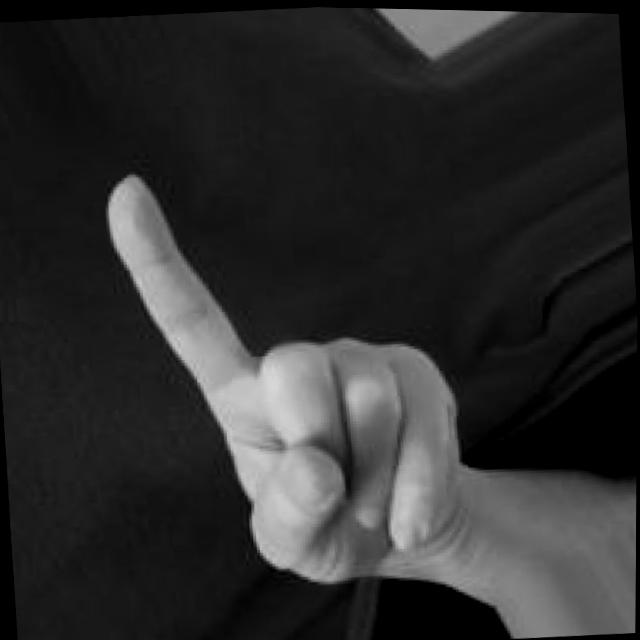I: (95, 146, 479, 607)
